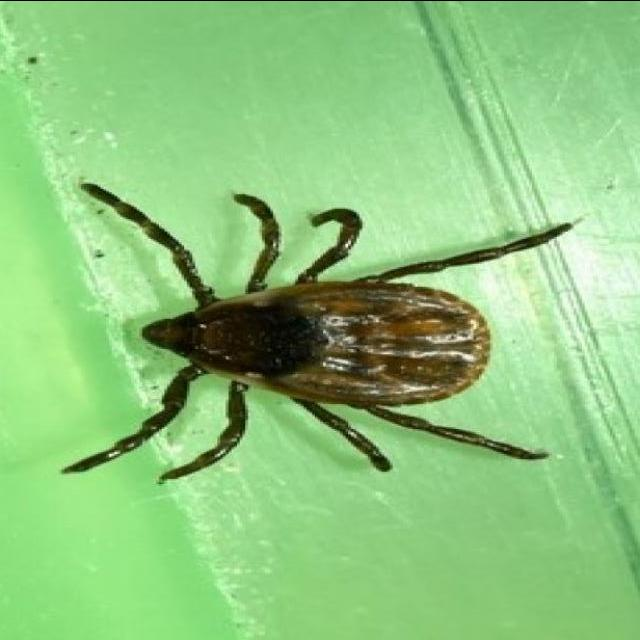Rhipicephalus Sanguineus-F: (62, 179, 574, 481)
